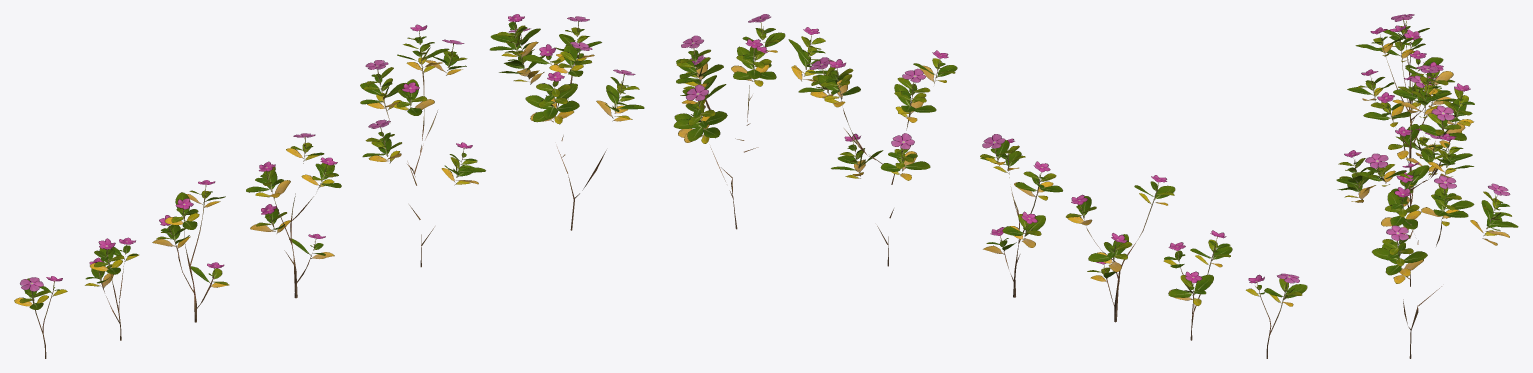
File: flowers.glb
3 renders of one model, left to right at view 1: azimuth 30°, elevation 25°; view 2: azimuth 150°, elevation 25°; view 3: azimuth 270°, elevation 25°, orthographic. The views are drawn at different scales.
Parts seen in each view (by area): view 1: periwinkle_plant_01_LOD0, periwinkle_plant_02_LOD0, periwinkle_plant_03_LOD0, periwinkle_plant_04_LOD0, periwinkle_plant_05_LOD0, periwinkle_plant_06_LOD0; view 2: periwinkle_plant_01_LOD0, periwinkle_plant_02_LOD0, periwinkle_plant_03_LOD0, periwinkle_plant_04_LOD0, periwinkle_plant_05_LOD0, periwinkle_plant_06_LOD0; view 3: periwinkle_plant_01_LOD0, periwinkle_plant_02_LOD0, periwinkle_plant_03_LOD0, periwinkle_plant_04_LOD0, periwinkle_plant_05_LOD0, periwinkle_plant_06_LOD0.
Part boxes in pixels (x1,y1,x2,y2): periwinkle_plant_01_LOD0: (489, 14, 644, 230); periwinkle_plant_02_LOD0: (360, 24, 485, 267); periwinkle_plant_03_LOD0: (246, 133, 341, 298); periwinkle_plant_04_LOD0: (152, 180, 229, 322); periwinkle_plant_05_LOD0: (85, 237, 138, 340); periwinkle_plant_06_LOD0: (14, 276, 67, 358); periwinkle_plant_01_LOD0: (673, 14, 833, 229); periwinkle_plant_02_LOD0: (798, 50, 957, 266); periwinkle_plant_03_LOD0: (980, 134, 1062, 297); periwinkle_plant_04_LOD0: (1066, 175, 1175, 322); periwinkle_plant_05_LOD0: (1163, 230, 1232, 340); periwinkle_plant_06_LOD0: (1246, 273, 1307, 358); periwinkle_plant_01_LOD0: (1336, 133, 1518, 358); periwinkle_plant_02_LOD0: (1347, 65, 1474, 286); periwinkle_plant_03_LOD0: (1363, 75, 1440, 212); periwinkle_plant_04_LOD0: (1355, 27, 1455, 171); periwinkle_plant_05_LOD0: (1377, 25, 1454, 125); periwinkle_plant_06_LOD0: (1383, 14, 1429, 103).
Size of the model in its own units: 1.24 by 0.4107 by 0.3208.
Materials: 1 (1 with a texture image).
